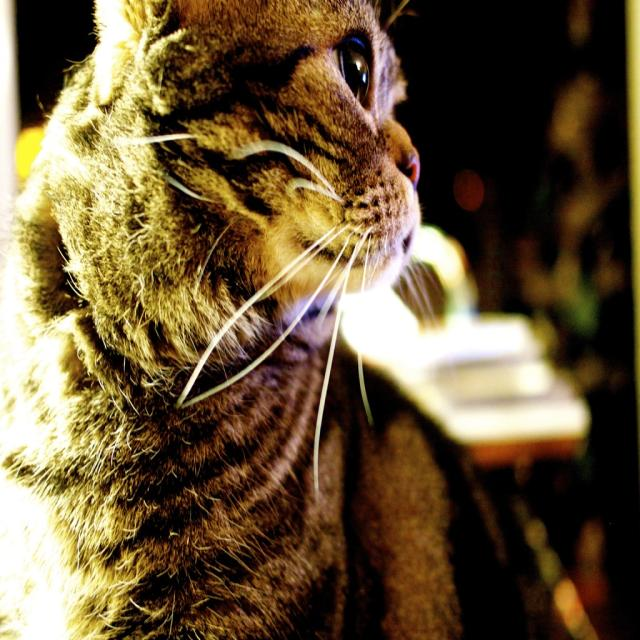Cat: (0, 2, 468, 638)
